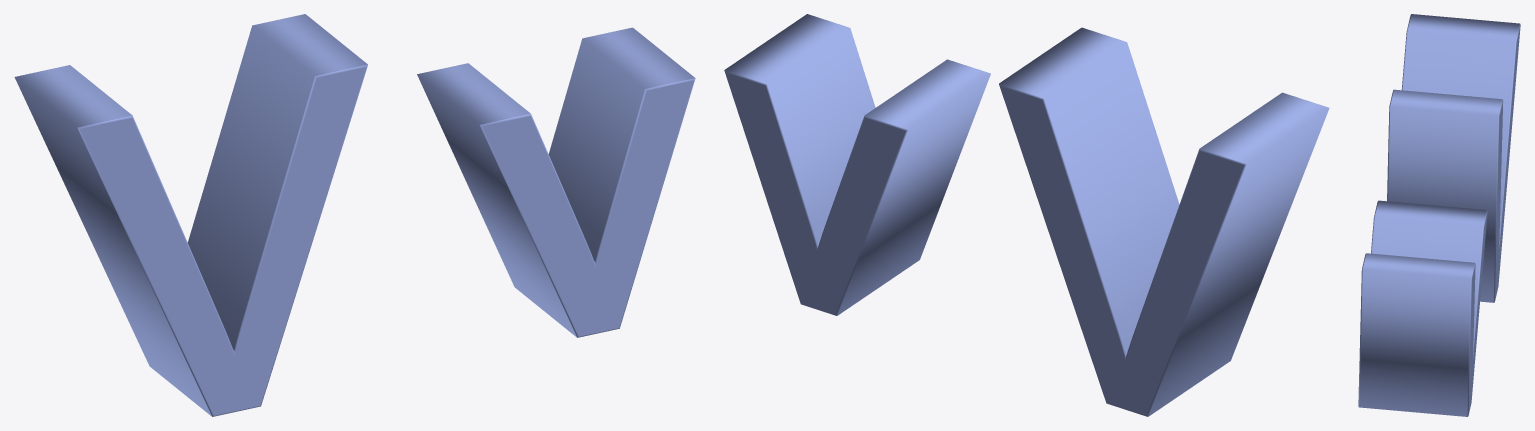
File: ObjectV.fbx
3 renders of one model, left to right at view 1: azimuth 30°, elevation 25°; view 2: azimuth 150°, elevation 25°; view 3: azimuth 270°, elevation 25°, orthographic. The views are drawn at different scales.
Visible parts, largest first — view 1: Text; view 2: Text; view 3: Text.
Part boxes in pixels (left/top/right/bottom): Text: left=14, top=14, right=695, bottom=416; Text: left=724, top=14, right=1329, bottom=416; Text: left=1358, top=14, right=1520, bottom=416.
Size of the model in its own units: 275 by 142 by 89.88.
